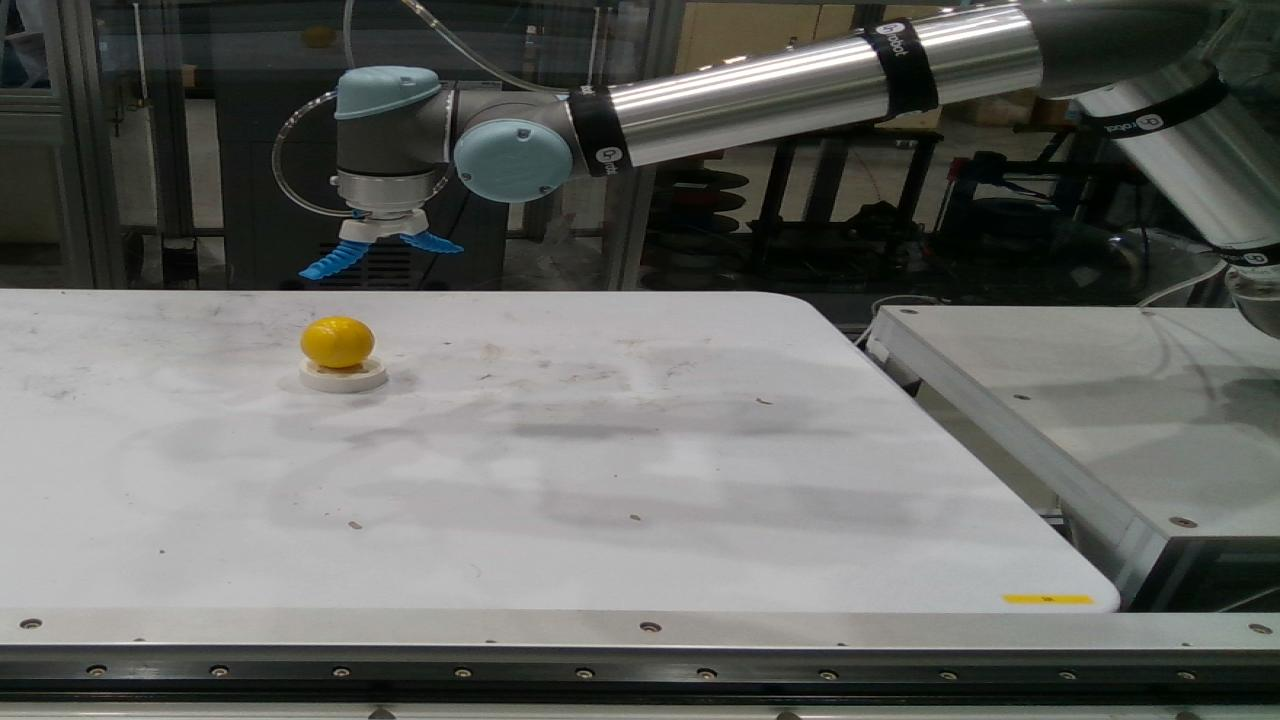UR5: (332, 0, 1279, 337)
gripper_left: (399, 228, 465, 253)
gripper_right: (300, 239, 372, 280)
target: (299, 350, 387, 393), (301, 316, 375, 367)
